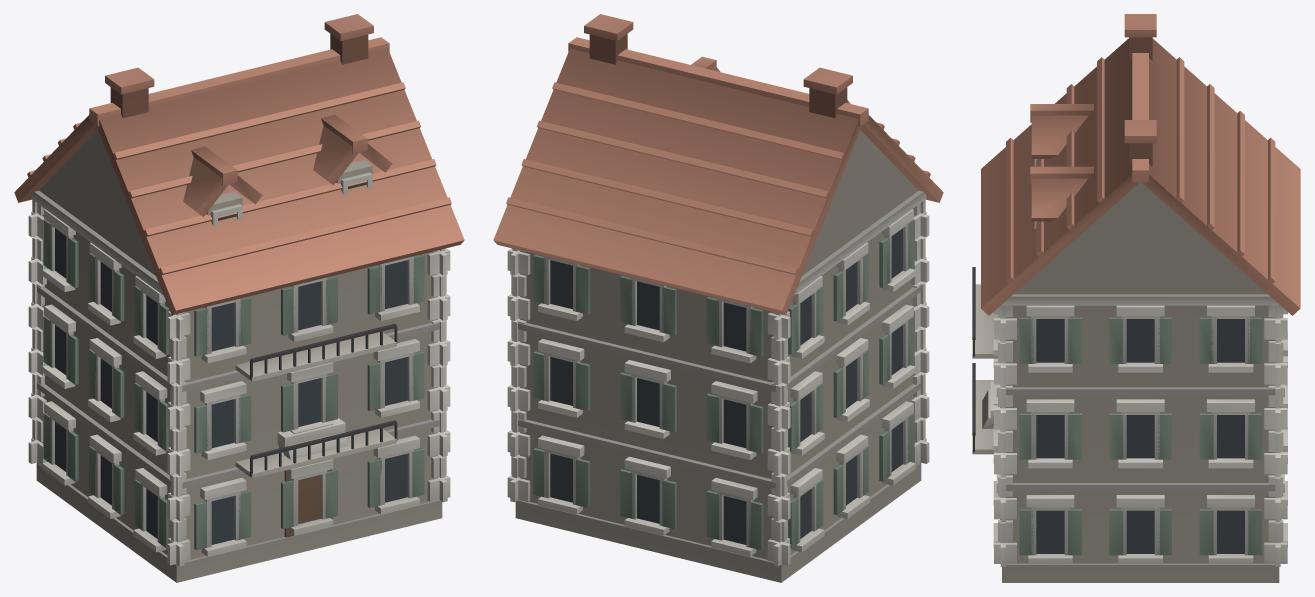
The model's file is house_early_2.glb.
3 views of the same model, side by side, from view 1: azimuth 30°, elevation 25°; view 2: azimuth 150°, elevation 25°; view 3: azimuth 270°, elevation 25° (orthographic).
Visible parts, largest first — view 1: Body_Detail, Body_Roof, Body_Wall; view 2: Body_Detail, Body_Roof, Body_Wall; view 3: Body_Detail, Body_Roof, Body_Wall.
Boxes of the visible parts, x1,y1,x2,y2 form: Body_Detail: (28,14,450,582); Body_Roof: (14,37,464,314); Body_Wall: (39,130,437,559); Body_Detail: (507,14,929,582); Body_Roof: (493,37,943,314); Body_Wall: (520,130,918,559); Body_Detail: (972,14,1287,582); Body_Roof: (981,38,1300,315); Body_Wall: (1006,159,1275,563).
Size of the model in its own units: 1.01 by 1.48 by 0.9944.
